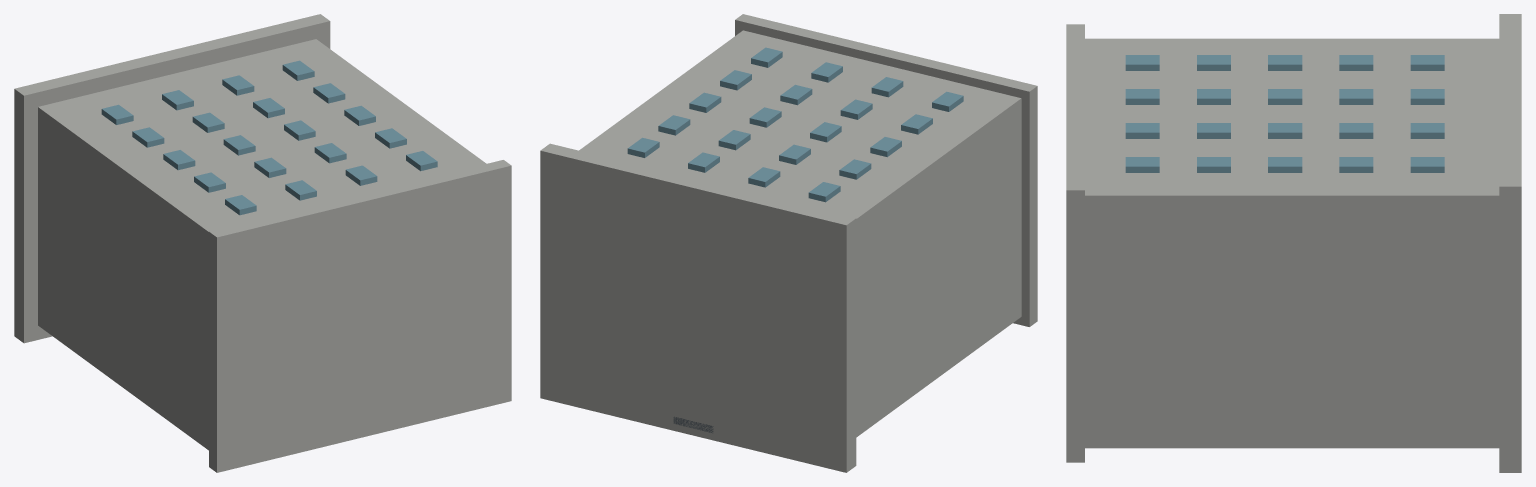
Rendered from AGE_VII_residential.glb.
3 renders of one model, left to right at view 1: azimuth 30°, elevation 25°; view 2: azimuth 150°, elevation 25°; view 3: azimuth 270°, elevation 25°, orthographic. The views are drawn at different scales.
Parts seen in each view (by area): view 1: world; view 2: world; view 3: world.
Part boxes in pixels (x1=…): world: x1=14, y1=14, x2=511, y2=472; world: x1=540, y1=14, x2=1037, y2=472; world: x1=1066, y1=14, x2=1521, y2=472.
Bounding box in the file's own units: 6.6 × 5.1 × 7.35.
